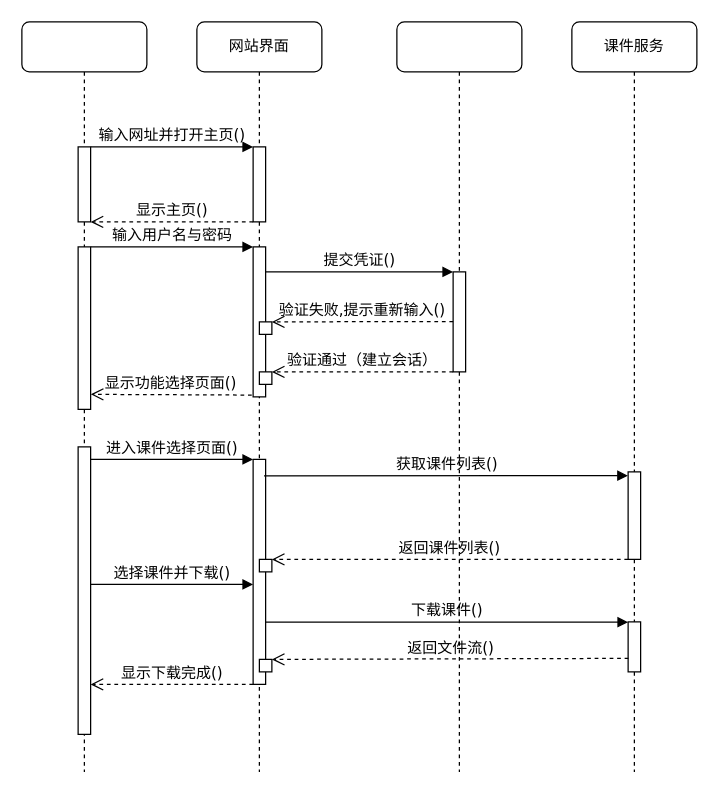
This 719x794 diagram has some shape labels left out. The shapes that lost their labels are listed below. From the top down, each one's centre as x and y in pixels, then its label:
the point at 84,396: 学生
the point at 459,396: 认证服务
